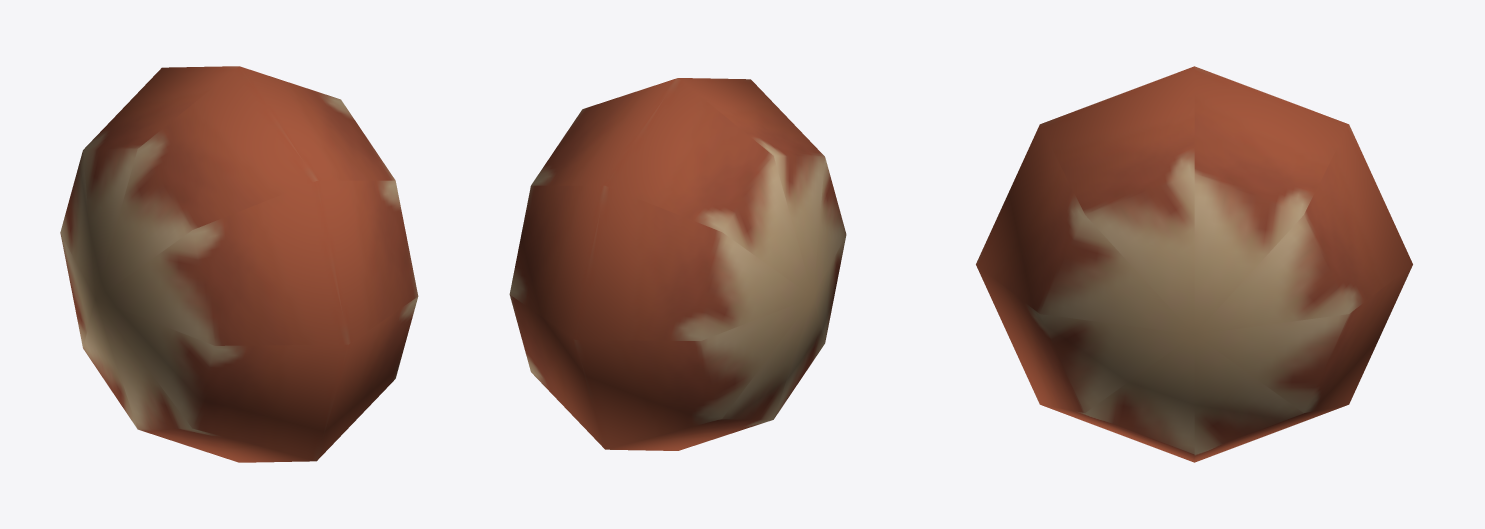
File: model_ball_sho.glb
3 renders of one model, left to right at view 1: azimuth 30°, elevation 25°; view 2: azimuth 150°, elevation 25°; view 3: azimuth 270°, elevation 25°, orthographic. The views are drawn at different scales.
Visible parts, largest first — view 1: parts.model_ball_sho-Mesh[0]; view 2: parts.model_ball_sho-Mesh[0]; view 3: parts.model_ball_sho-Mesh[0].
Part boxes in pixels (left/top/right/bottom): parts.model_ball_sho-Mesh[0]: left=60, top=66, right=418, bottom=462; parts.model_ball_sho-Mesh[0]: left=509, top=78, right=846, bottom=450; parts.model_ball_sho-Mesh[0]: left=976, top=66, right=1412, bottom=462.
Bounding box in the file's own units: 0.6345 × 1.06 × 1.06.
1 material, 1 textured.
